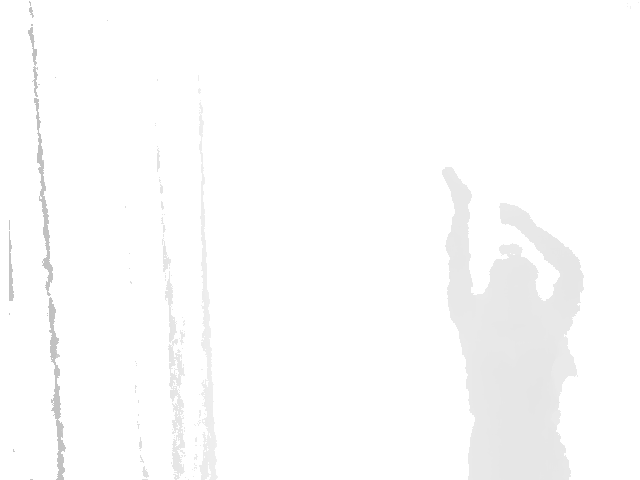hand: (442, 165, 474, 209), (498, 201, 532, 232)
head: (486, 243, 541, 298)
person: (442, 163, 586, 480)
